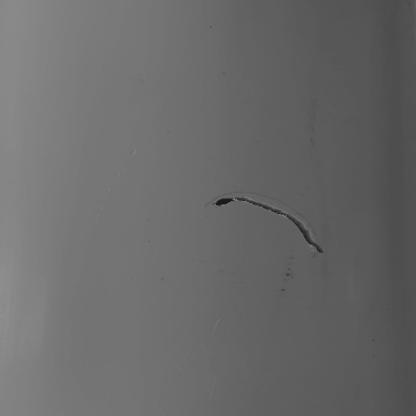fengxi: (206, 186, 332, 257)
